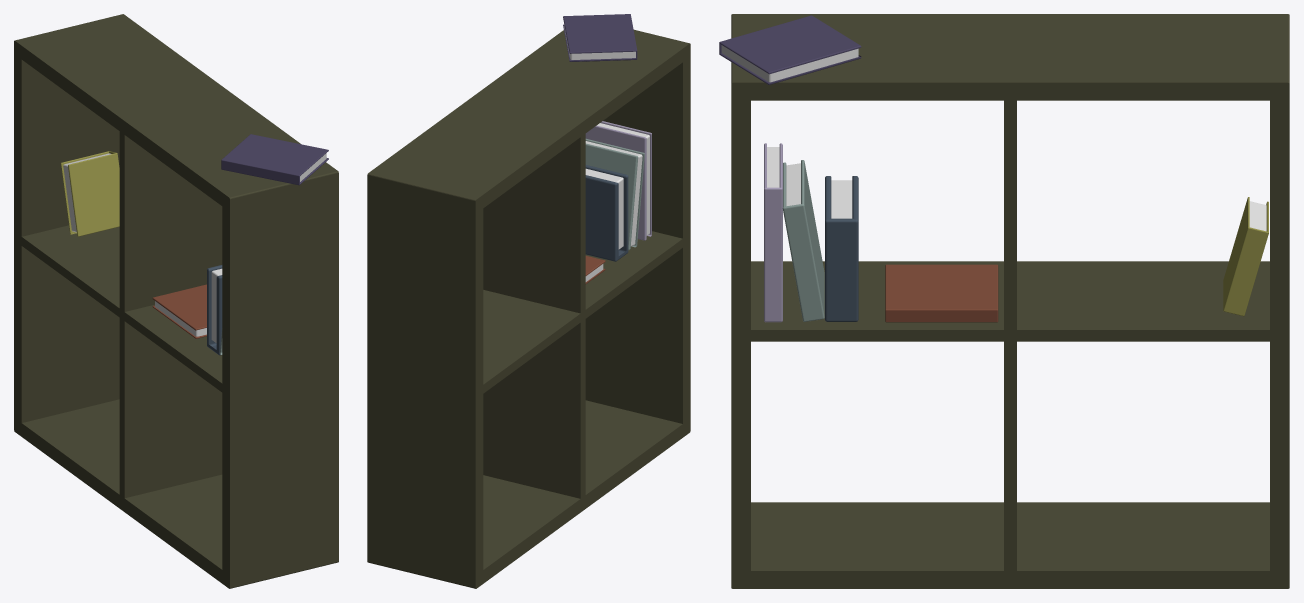
File: bookshelf.fbx
3 renders of one model, left to right at view 1: azimuth 30°, elevation 25°; view 2: azimuth 150°, elevation 25°; view 3: azimuth 270°, elevation 25°, orthographic. The views are drawn at different scales.
Visible parts, largest first — view 1: Bookshelf, MustardBook, DarkPurpleBook, RedBook, DarkGreenBook, Pages, BrownBookPages.001; view 2: Bookshelf, DarkGreenBook, DarkPurpleBook, LightGreenBook, PurpleBook, Pages, LightGreenBookPages, PurpleBookPages, BrownBookPages.002; view 3: Bookshelf, RedBook, DarkPurpleBook, DarkGreenBook, LightGreenBook, MustardBook, PurpleBook, BrownBookPages.002, Pages.
Part boxes in pixels (box(x1,y1,x2,y2)): Bookshelf: box(14, 14, 338, 588); MustardBook: box(60, 151, 119, 236); DarkPurpleBook: box(221, 134, 328, 185); RedBook: box(152, 284, 206, 338); DarkGreenBook: box(207, 265, 222, 355); Pages: box(211, 268, 222, 342); BrownBookPages.001: box(63, 153, 111, 232); Bookshelf: box(367, 29, 690, 588); DarkGreenBook: box(585, 165, 628, 261); DarkPurpleBook: box(563, 14, 637, 61); LightGreenBook: box(585, 138, 644, 250); PurpleBook: box(585, 121, 651, 240); Pages: box(585, 168, 623, 249); LightGreenBookPages: box(585, 141, 642, 246); PurpleBookPages: box(597, 123, 649, 235); BrownBookPages.002: box(564, 25, 635, 59); Bookshelf: box(731, 14, 1289, 588); RedBook: box(885, 264, 998, 322); DarkPurpleBook: box(719, 15, 861, 84); DarkGreenBook: box(825, 176, 858, 321); LightGreenBook: box(782, 160, 824, 321); MustardBook: box(1223, 197, 1268, 316); PurpleBook: box(764, 143, 782, 322); BrownBookPages.002: box(721, 45, 858, 82); Pages: box(831, 180, 852, 218).
Bounding box in the file's own units: 31.94 × 108 × 108.
